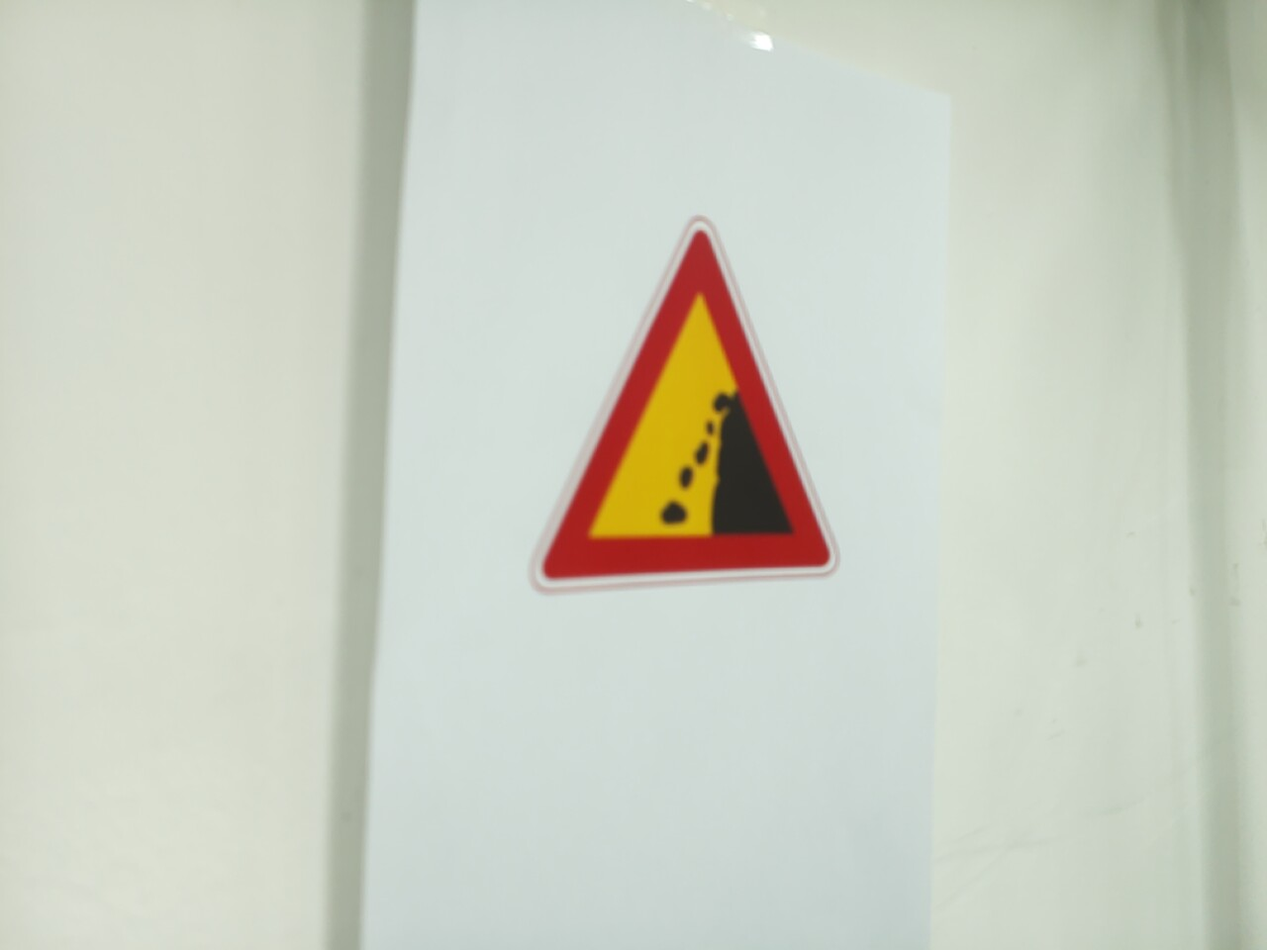falling_rocks: (534, 220, 839, 590)
